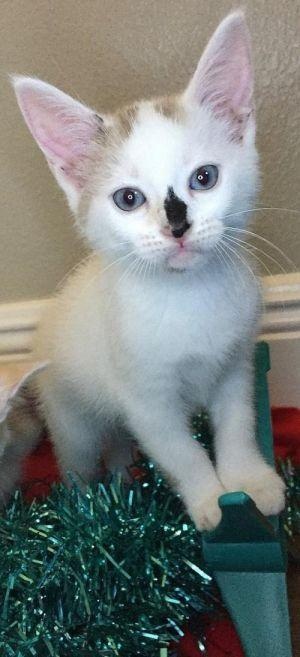siamese: (4, 1, 279, 293)
